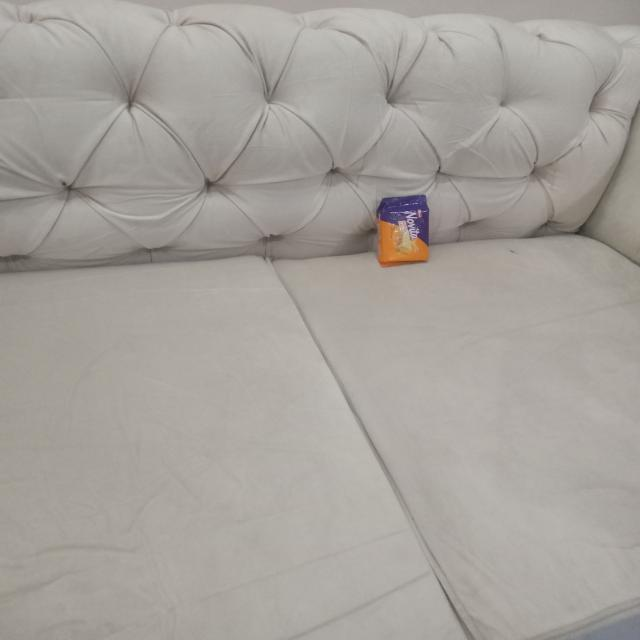Plastic: (373, 191, 432, 266)
